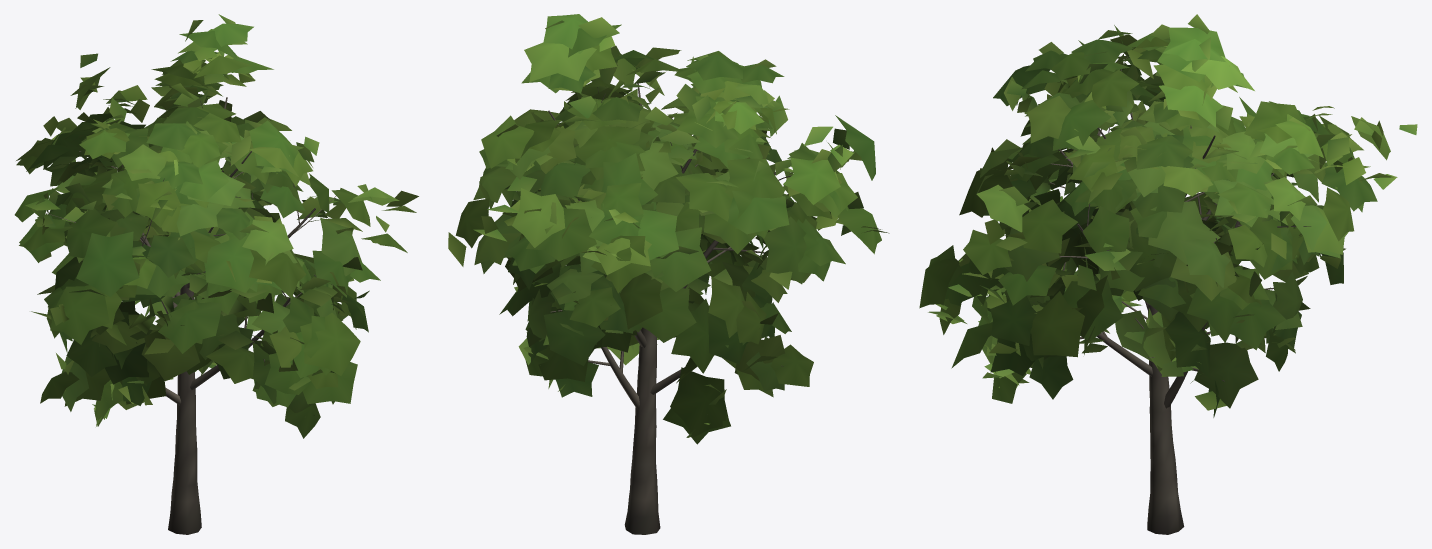
Rendered from lime-a.lod0.glb.
3 views of the same model, side by side, from view 1: azimuth 30°, elevation 25°; view 2: azimuth 150°, elevation 25°; view 3: azimuth 270°, elevation 25° (orthographic). The views are drawn at different scales.
Bounding box in the file's own units: 9.83 × 13.53 × 11.61.
